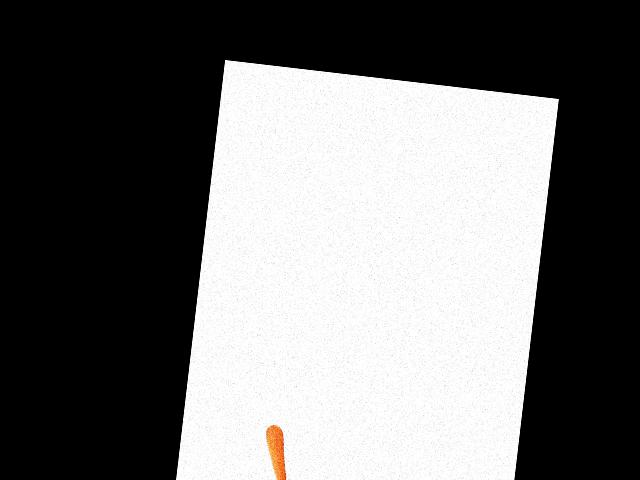carrot: (257, 409, 299, 480)
